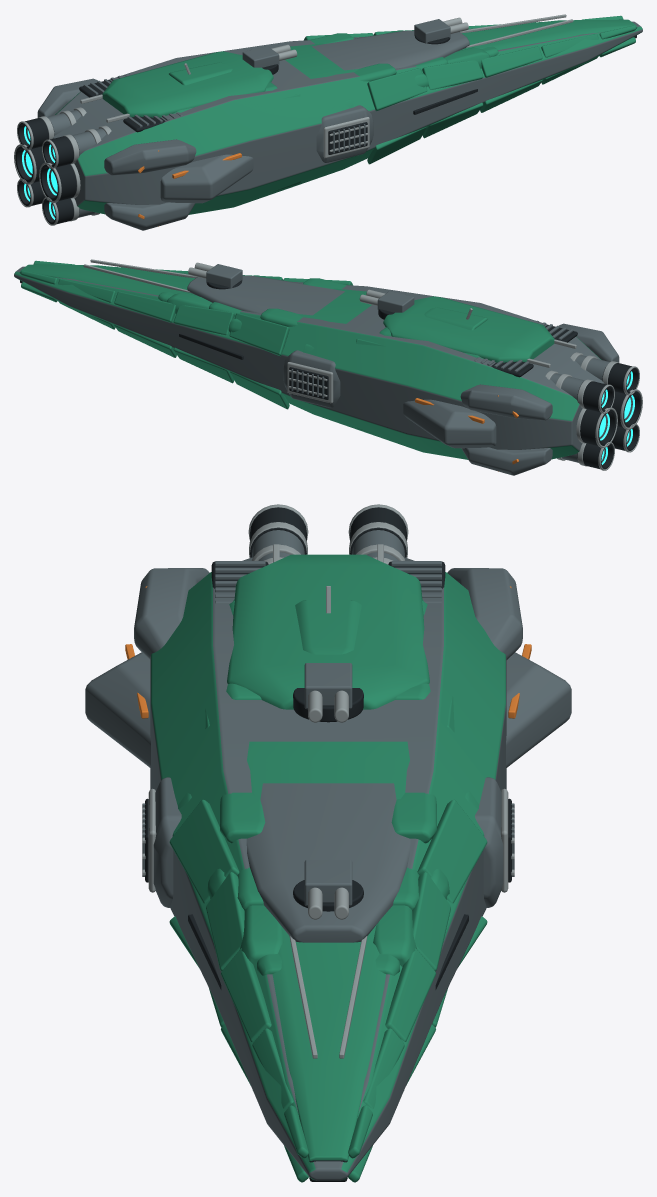
The model's file is shu-line.glb.
3 views of the same model, one above another, from view 1: azimuth 30°, elevation 25°; view 2: azimuth 150°, elevation 25°; view 3: azimuth 270°, elevation 25° (orthographic). The views are drawn at different scales.
Parts seen in each view (by area): view 1: Faceted armored keel, Raised rear command deck, Shaped dorsal armor, Forward turret base deck, Swept flank wing, Short canted fin.001, Short canted fin, Keyed jade shoulder armor.011, Keyed jade shoulder armor.012, Midships engine grille frame, Keyed jade shoulder armor.013, Short canted fin.003 (+21 smaller); view 2: Faceted armored keel, Raised rear command deck, Shaped dorsal armor, Forward turret base deck, Swept flank wing.001, Short canted fin.003, Short canted fin.002, Keyed jade shoulder armor.027, Keyed jade shoulder armor.028, Midships engine grille frame.001, Keyed jade shoulder armor.029, Short canted fin.001 (+21 smaller); view 3: Faceted armored keel, Shaped dorsal armor, Raised rear command deck, Forward turret base deck, Swept flank wing.001, Swept flank wing, Short canted fin.001, Short canted fin.003, Keyed jade shoulder armor.027, Keyed jade shoulder armor.011, Command bridge, Midships engine grille frame.001 (+16 smaller).
Boxes of the visible parts, x1,y1,x2,y2 form: Faceted armored keel: (52, 21, 642, 214); Raised rear command deck: (102, 51, 273, 117); Shaped dorsal armor: (285, 19, 637, 78); Forward turret base deck: (312, 30, 469, 70); Swept flank wing: (160, 154, 253, 203); Short canted fin.001: (104, 139, 196, 175); Short canted fin: (104, 202, 195, 230); Keyed jade shoulder armor.011: (367, 68, 427, 111); Keyed jade shoulder armor.012: (422, 60, 483, 89); Midships engine grille frame: (316, 105, 373, 162); Keyed jade shoulder armor.013: (481, 46, 542, 77); Short canted fin.003: (37, 78, 98, 117); Faceted armored keel: (14, 266, 604, 459); Raised rear command deck: (383, 296, 554, 362); Shaped dorsal armor: (19, 264, 371, 323); Forward turret base deck: (187, 275, 344, 315); Swept flank wing.001: (403, 399, 496, 448); Short canted fin.003: (460, 384, 552, 420); Short canted fin.002: (461, 447, 552, 475); Keyed jade shoulder armor.027: (229, 313, 289, 356); Keyed jade shoulder armor.028: (173, 305, 234, 334); Midships engine grille frame.001: (283, 350, 340, 407); Keyed jade shoulder armor.029: (114, 291, 175, 322); Short canted fin.001: (558, 323, 619, 362); Faceted armored keel: (150, 557, 506, 1180); Shaped dorsal armor: (247, 741, 409, 1161); Raised rear command deck: (227, 554, 429, 709); Forward turret base deck: (246, 783, 410, 942); Swept flank wing.001: (506, 652, 571, 767); Swept flank wing: (85, 652, 150, 767); Short canted fin.001: (134, 568, 209, 659); Short canted fin.003: (447, 568, 522, 659); Keyed jade shoulder armor.027: (417, 799, 487, 903); Keyed jade shoulder armor.011: (169, 799, 239, 903); Command bridge: (295, 600, 361, 654); Midships engine grille frame.001: (475, 777, 503, 907).
Bounding box in the file's own units: 750 × 152 × 262.
